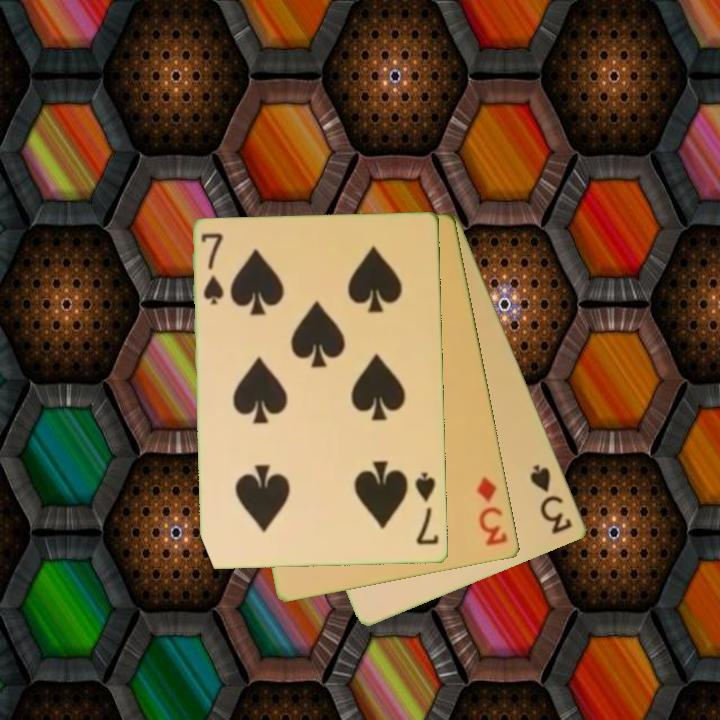3d: (473, 473, 511, 549)
3s: (527, 461, 576, 537)
7s: (412, 469, 441, 548), (198, 230, 227, 308)
